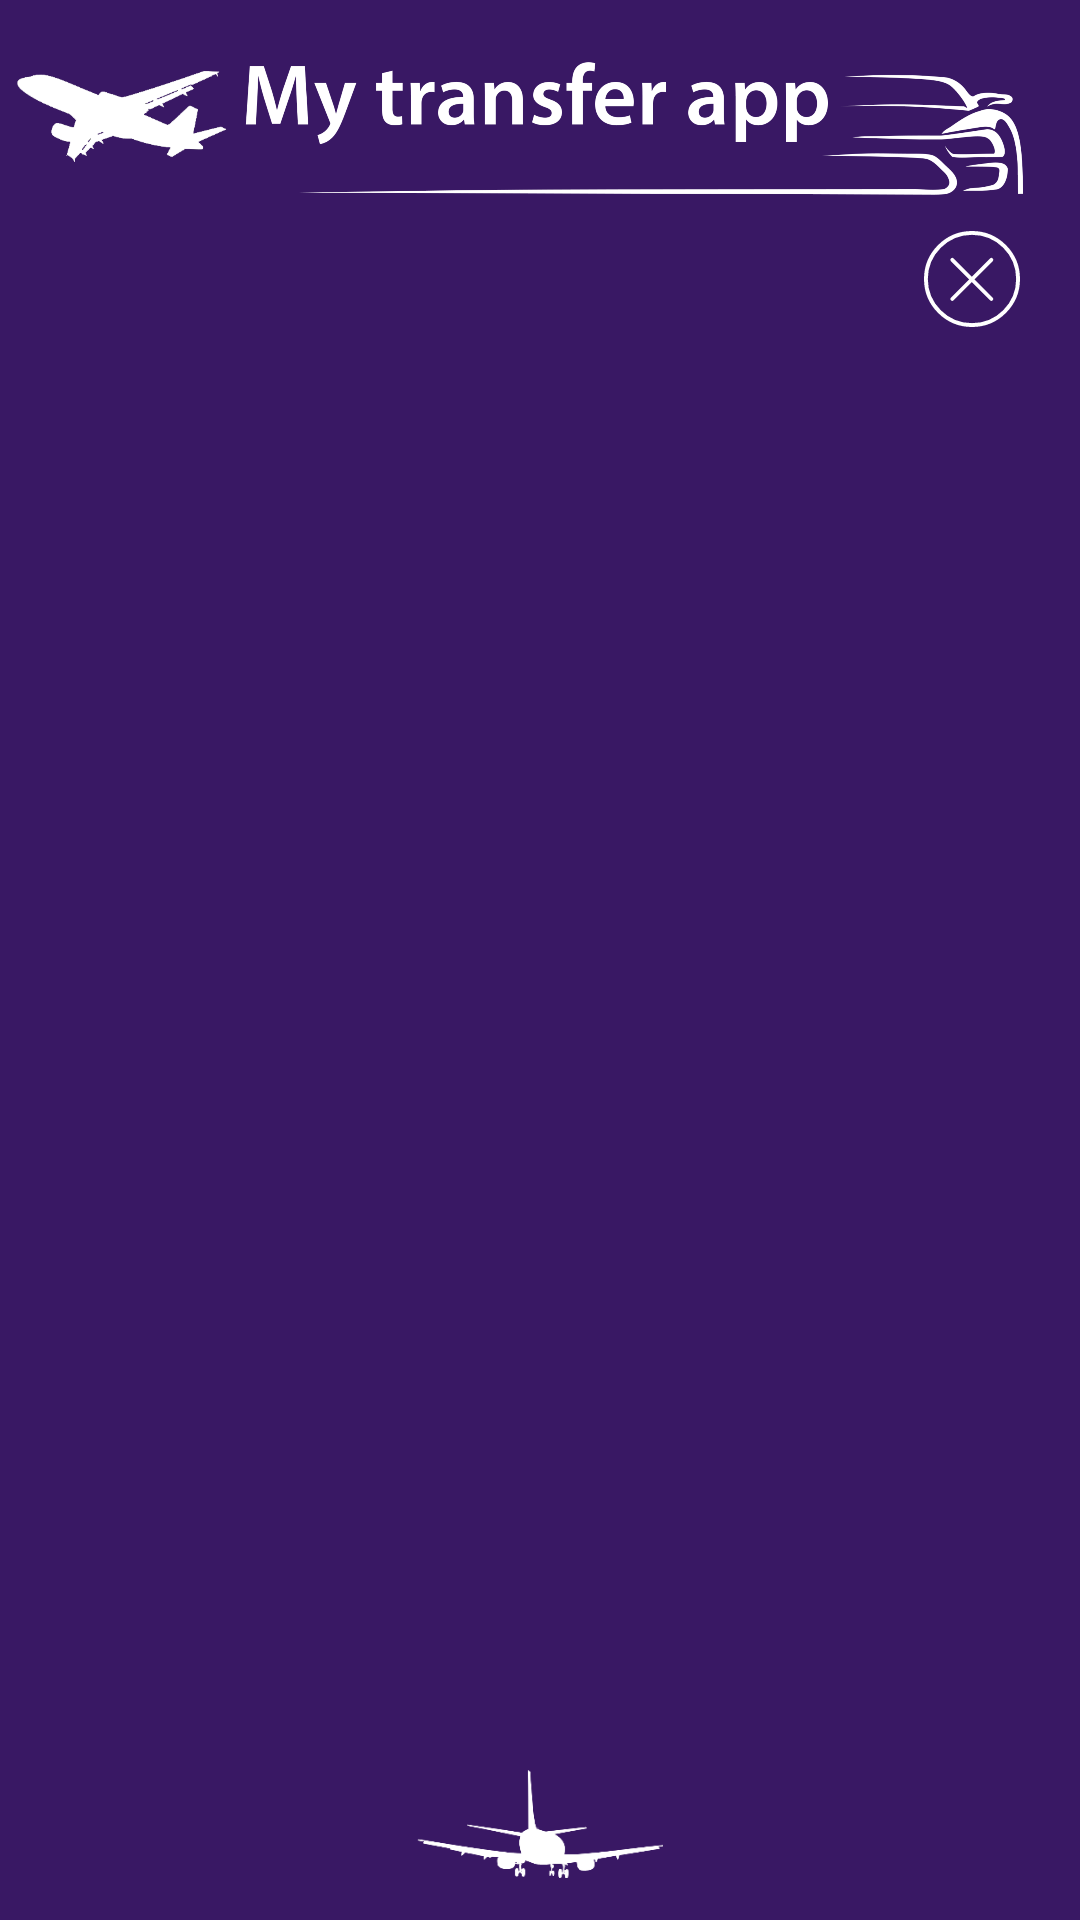

Where to tap for icons on this 1080×1920 app screen, as [x,y]:
close: [972,279]
plane: [540,1824]
plane takeoff: [121,116]
